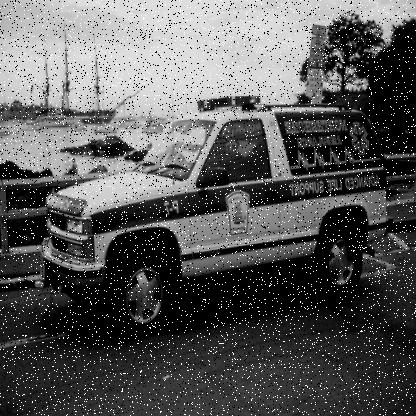Car: (40, 97, 386, 336)
